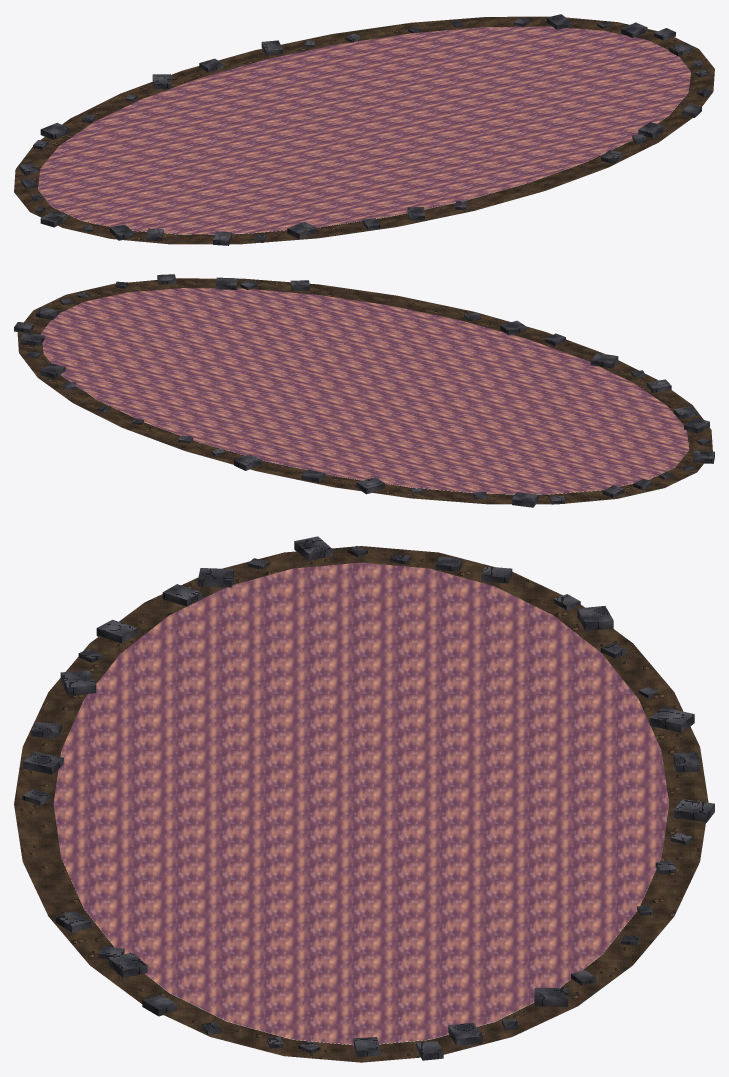
The model's file is lago.obj.
3 renders of one model, top to bottom at view 1: azimuth 30°, elevation 25°; view 2: azimuth 150°, elevation 25°; view 3: azimuth 270°, elevation 25°, orthographic. The views are drawn at different scales.
Visible parts, largest first — view 1: lago; view 2: lago; view 3: lago.
Boxes of the visible parts, x1,y1,x2,y2 form: lago: (14, 14, 714, 245); lago: (14, 274, 714, 507); lago: (14, 536, 714, 1062).
Bounding box in the file's own units: 27.93 × 0.2284 × 15.94.
3 materials, 3 textured.
